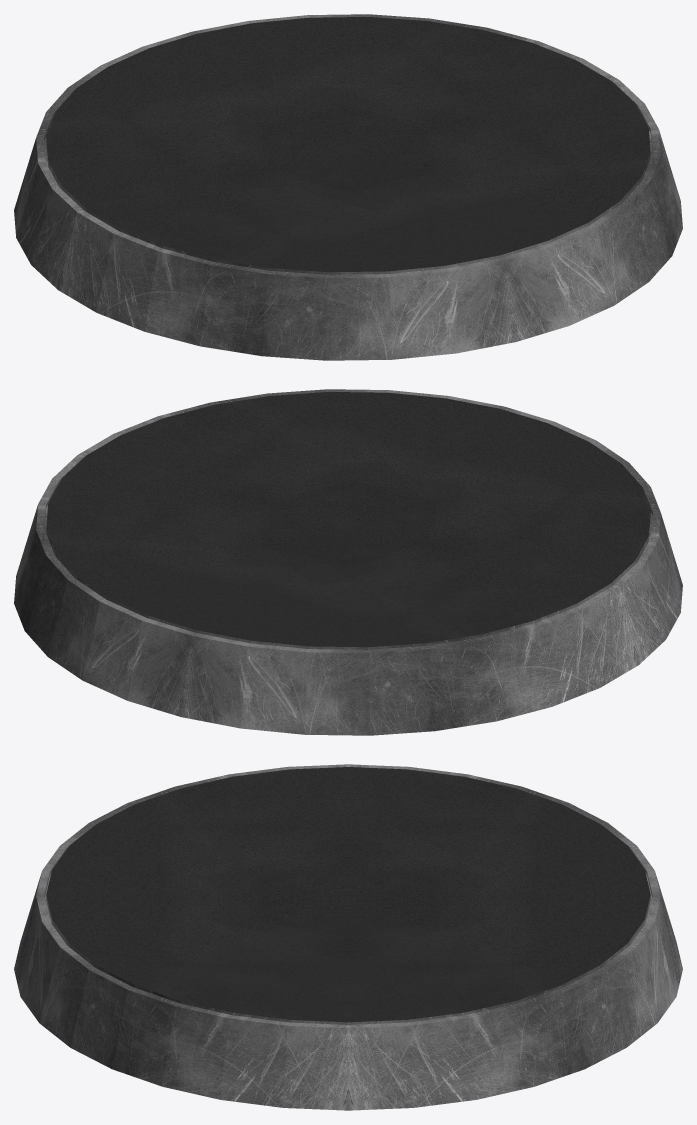
Rendered from Pedestal.fbx.
3 renders of one model, top to bottom at view 1: azimuth 30°, elevation 25°; view 2: azimuth 150°, elevation 25°; view 3: azimuth 270°, elevation 25°, orthographic.
Parts seen in each view (by area): view 1: Pedestal; view 2: Pedestal; view 3: Pedestal.
Part boxes in pixels (box(x1,y1,x2,y2)): Pedestal: box(14, 14, 682, 360); Pedestal: box(14, 389, 682, 735); Pedestal: box(14, 764, 682, 1110).
Bounding box in the file's own units: 221 × 27.26 × 221.
